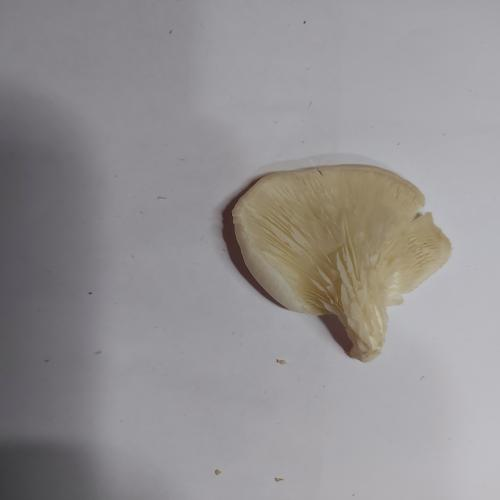Oyster Mushroom: (230, 162, 453, 363)
